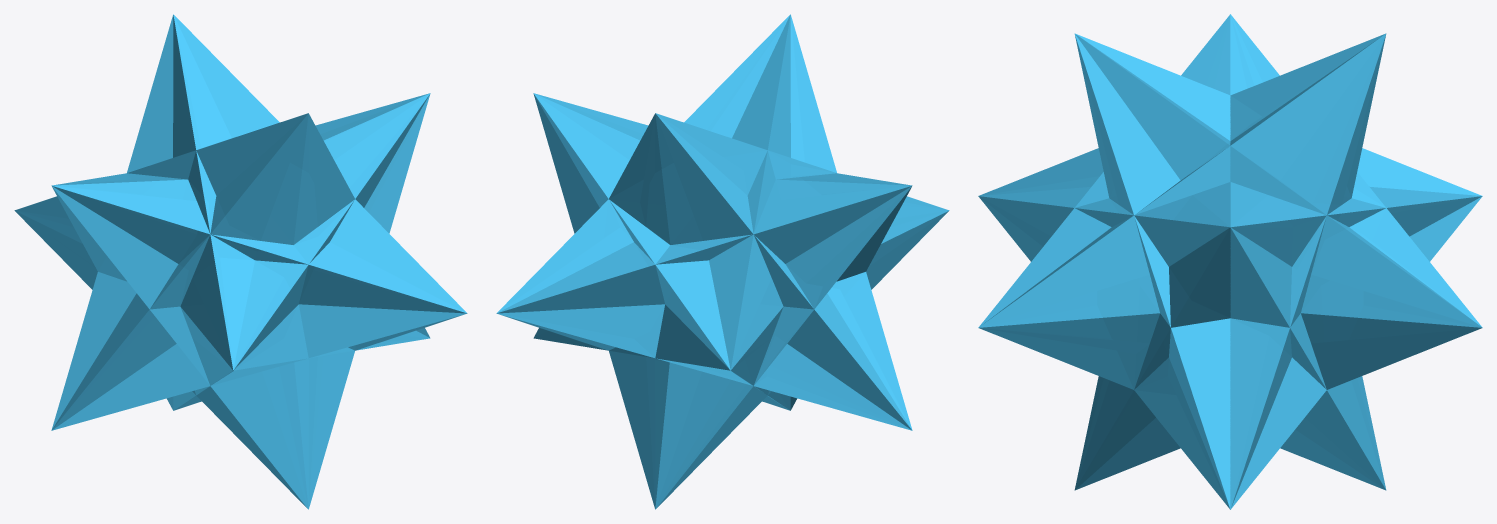
File: SmallDodecicosacron.obj
The picture shows the model from 3 angles, left to right: view 1: azimuth 30°, elevation 25°; view 2: azimuth 150°, elevation 25°; view 3: azimuth 270°, elevation 25°; orthographic projection. The views are drawn at different scales.
Size of the model in its own units: 7.85 by 7.85 by 7.85.
